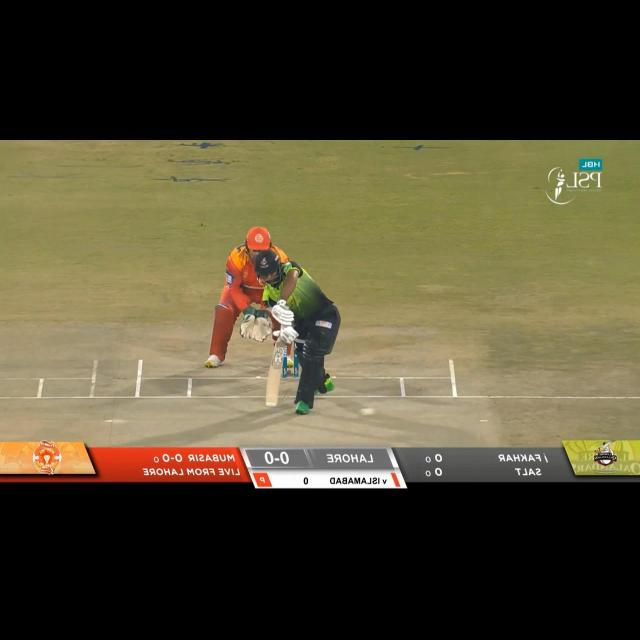bat: (264, 339, 286, 408)
toe: (262, 394, 285, 408)
